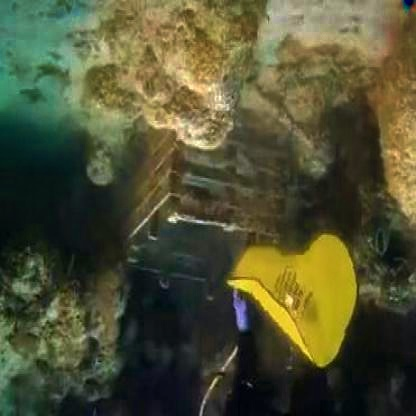misc: (129, 144, 317, 307)
